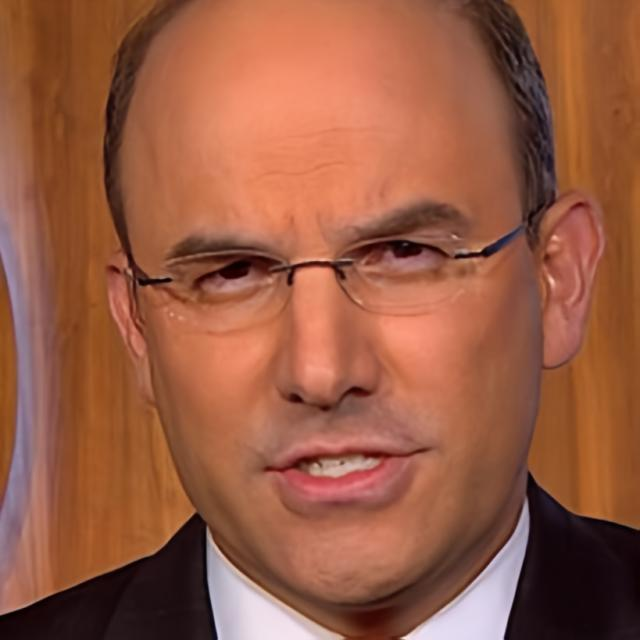disgust: (122, 0, 544, 605)
